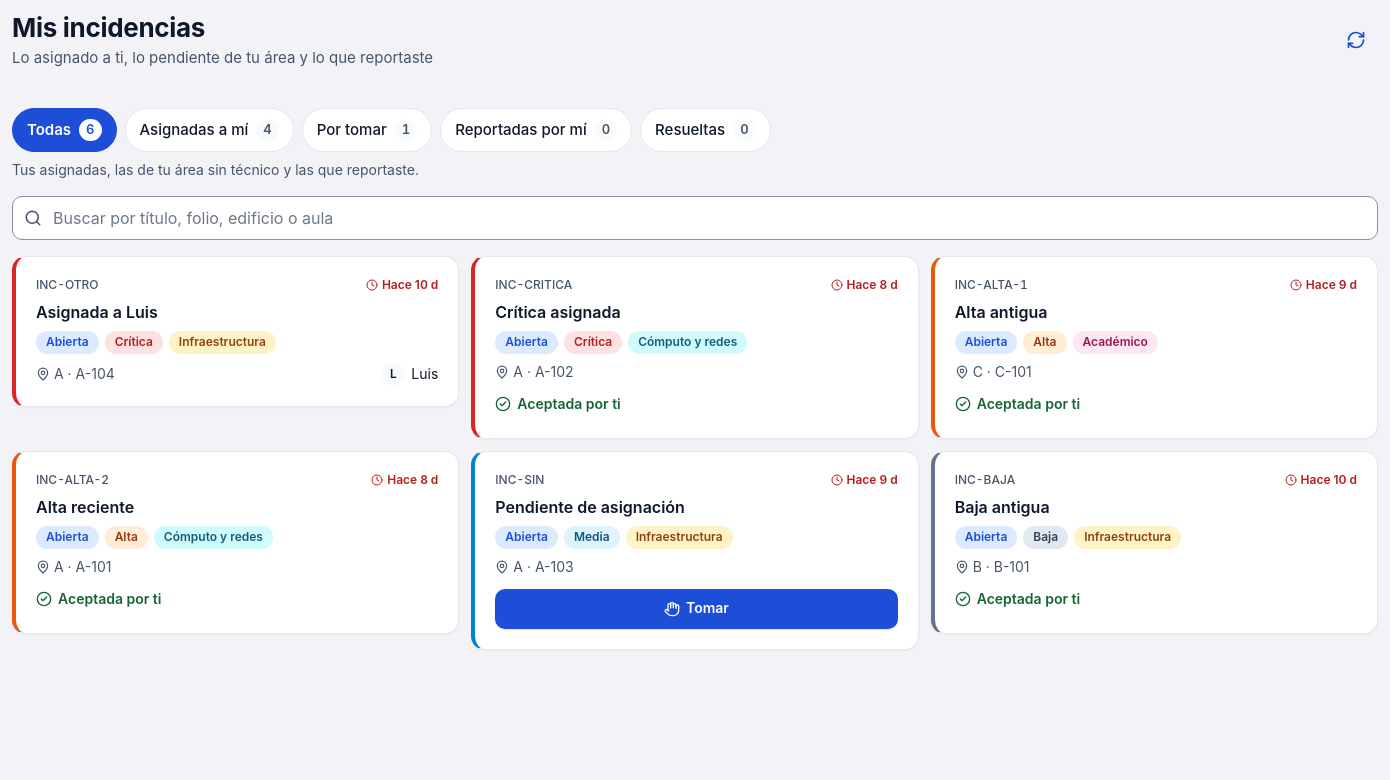
Scenario: Mis incidencias del técnico (T-050) › busca por título, folio o aula sin importar acentos y permite limpiar
Check: the link "Crítica asignada" is shown, box [495,302,621,322]
In the search field named "Buscar en mis incidencias": (695, 218) [12,196,1378,240], type "CRITICA"
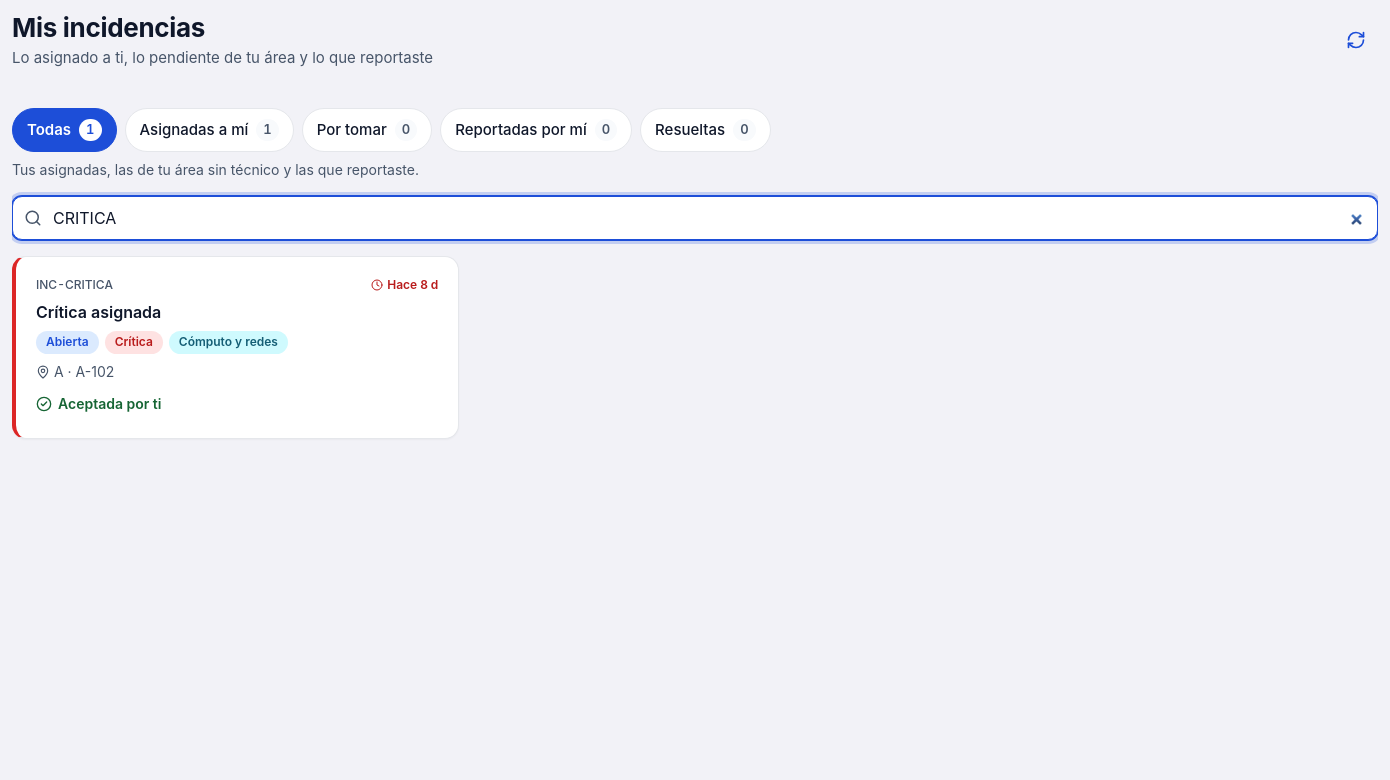
Check: the link "Crítica asignada" is shown, box [36,302,161,322]
Check: the link "Alta antigua" is gone
Replace the text in the search field named "Buscar en mis incidencias" with "INC-SIN": (695, 218) [12,196,1378,240]
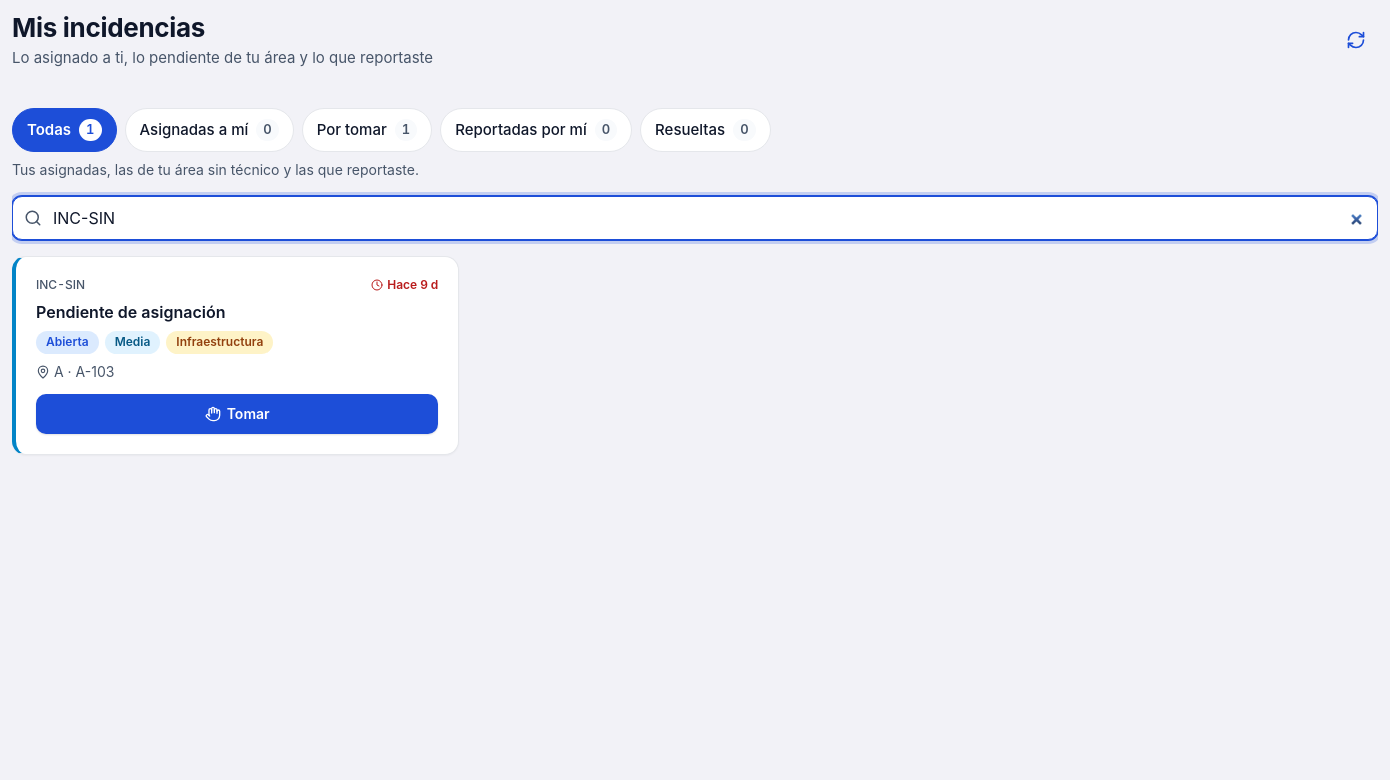
Check: the radio button labelled "Por tomar 1" is shown, box [302,108,432,152]
Check: the radio button labelled "Asignadas a mí 0" is shown, box [124,108,294,152]
Replace the text in the search field named "Buscar en mis incidencias" with "no existe nada": (695, 218) [12,196,1378,240]
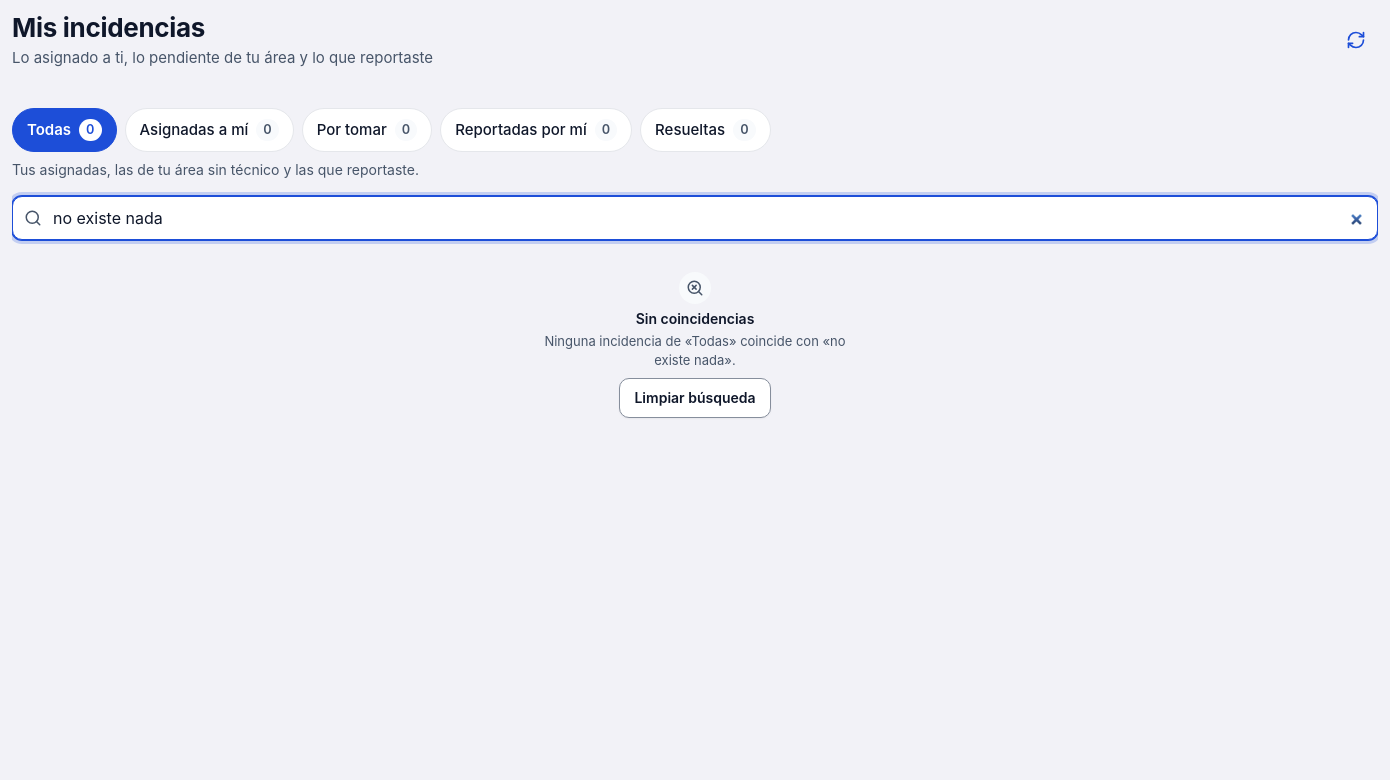
Check: the heading "Sin coincidencias" is shown, box [636,310,754,328]
Click the button "Limpiar búsqueda": (695, 398) [620,378,771,418]
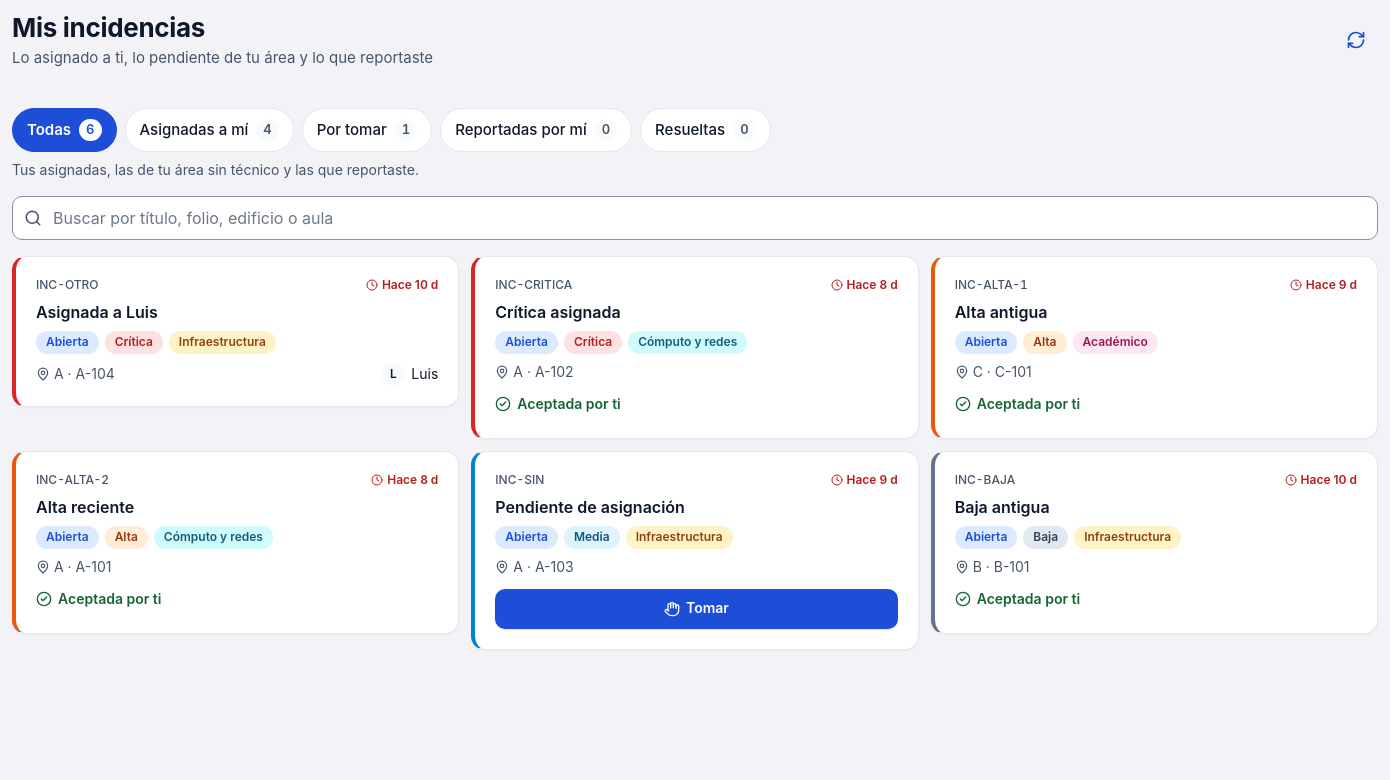
Check: the link "Alta antigua" is shown, box [955,302,1048,322]
